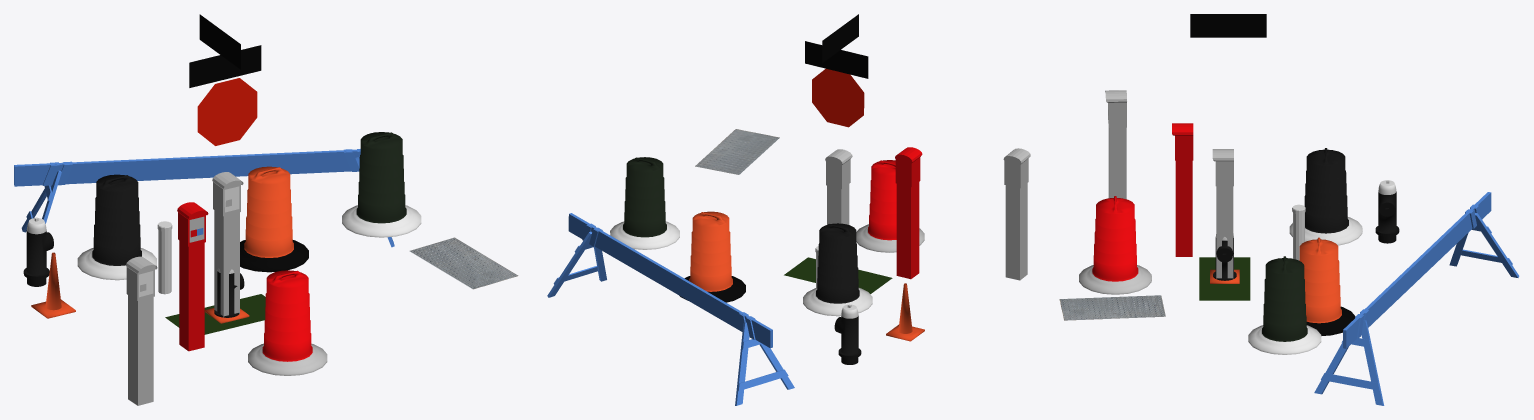
Rendered from blocks.glb.
The picture shows the model from 3 angles, left to right: view 1: azimuth 30°, elevation 25°; view 2: azimuth 150°, elevation 25°; view 3: azimuth 270°, elevation 25°; orthographic projection. The views are drawn at different scales.
Visible parts, largest first — view 1: police-barricade-wooden_proxy.001, call-box-old_proxy, trash-barrel_proxy.001, Cylinder_proxy, hydrant_proxy, jersey-barrier_proxy, call_box_proxy, jersey-barrier, sign-stop-30, Plane_proxy, sign-one-way-36, hydrant-new_proxy (+5 smaller); view 2: police-barricade-wooden_proxy.001, trash-barrel_proxy.001, hydrant_proxy, Cylinder_proxy, call_box_proxy, jersey-barrier_proxy, call-box-old_proxy, sign-stop-30, Plane_proxy, jersey-barrier, sign-one-way-36, hydrant-new_proxy (+3 smaller); view 3: police-barricade-wooden_proxy.001, trash-barrel_proxy.001, call-box-old_proxy, hydrant_proxy, Cylinder_proxy, call_box_proxy, Plane_proxy, jersey-barrier_proxy, jersey-barrier, sign-one-way-36-2, post, hydrant-new_proxy (+2 smaller).
Boxes of the visible parts, x1,y1,x2,y2 form: police-barricade-wooden_proxy.001: [14, 149, 394, 247]; call-box-old_proxy: [248, 270, 327, 375]; trash-barrel_proxy.001: [342, 132, 421, 237]; Cylinder_proxy: [240, 166, 308, 272]; hydrant_proxy: [77, 174, 156, 280]; jersey-barrier_proxy: [126, 256, 157, 405]; call_box_proxy: [177, 202, 208, 351]; jersey-barrier: [212, 172, 243, 317]; sign-stop-30: [197, 78, 257, 145]; Plane_proxy: [409, 237, 518, 289]; sign-one-way-36: [189, 45, 261, 87]; hydrant-new_proxy: [23, 217, 53, 286]; police-barricade-wooden_proxy.001: [547, 213, 794, 405]; trash-barrel_proxy.001: [610, 157, 679, 249]; hydrant_proxy: [803, 223, 872, 316]; Cylinder_proxy: [679, 211, 745, 302]; call_box_proxy: [895, 147, 922, 279]; jersey-barrier_proxy: [1003, 148, 1030, 280]; call-box-old_proxy: [856, 160, 924, 252]; sign-stop-30: [812, 68, 864, 127]; Plane_proxy: [695, 129, 779, 174]; jersey-barrier: [825, 149, 852, 224]; sign-one-way-36: [805, 41, 868, 78]; hydrant-new_proxy: [834, 304, 861, 364]; police-barricade-wooden_proxy.001: [1314, 192, 1519, 405]; trash-barrel_proxy.001: [1248, 256, 1321, 354]; call-box-old_proxy: [1079, 196, 1151, 294]; hydrant_proxy: [1289, 148, 1362, 245]; Cylinder_proxy: [1299, 237, 1355, 335]; call_box_proxy: [1172, 123, 1193, 256]; Plane_proxy: [1059, 295, 1165, 320]; jersey-barrier_proxy: [1105, 90, 1126, 199]; jersey-barrier: [1212, 149, 1233, 278]; sign-one-way-36-2: [1190, 14, 1266, 37]; post: [1199, 257, 1250, 300]; hydrant-new_proxy: [1375, 180, 1399, 243].
Size of the model in its own units: 5.06 by 3.7 by 5.49.
Materials: 17 (1 with a texture image).
